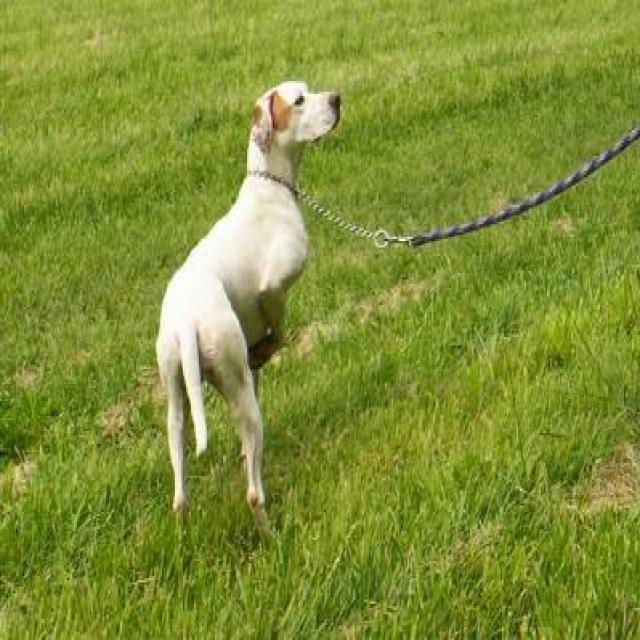dog: (154, 77, 342, 540)
